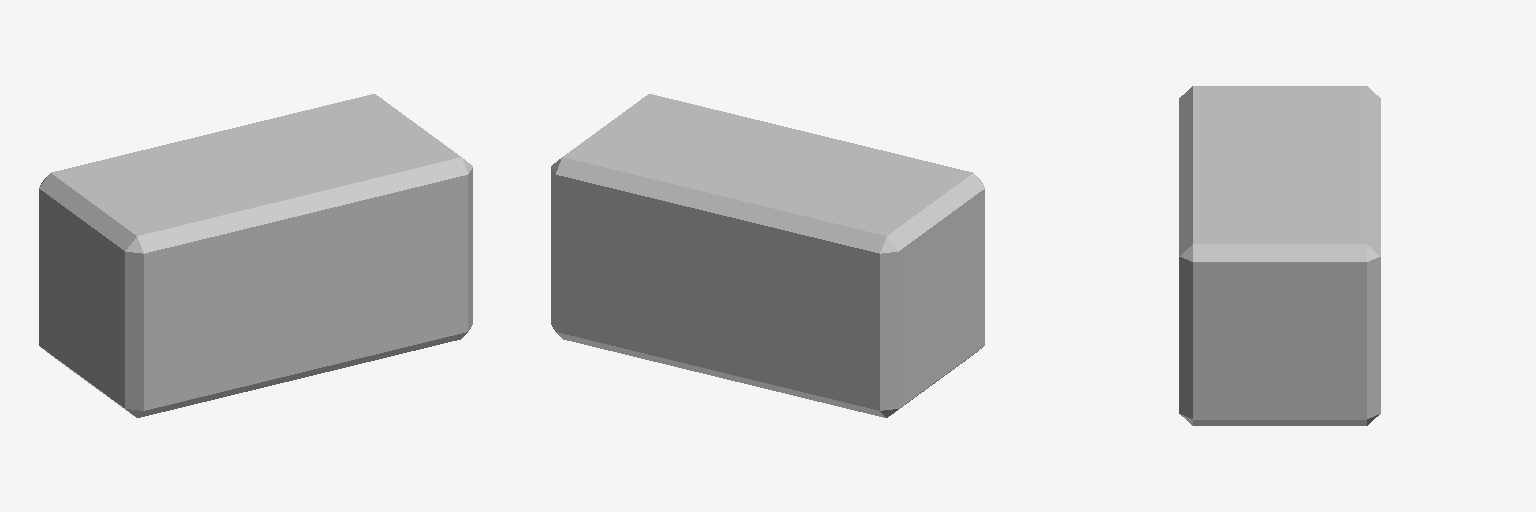
Rendered from gun_ammo.obj.
The picture shows the model from 3 angles: view 1: azimuth 30°, elevation 25°; view 2: azimuth 150°, elevation 25°; view 3: azimuth 270°, elevation 25°; orthographic projection.
Parts seen in each view (by area): view 1: Gun_ammo_Cube; view 2: Gun_ammo_Cube; view 3: Gun_ammo_Cube.
Part boxes in pixels (x1,y1,x2,y2): Gun_ammo_Cube: (39, 94, 472, 417); Gun_ammo_Cube: (551, 94, 984, 417); Gun_ammo_Cube: (1179, 86, 1380, 425).
Bounding box in the file's own units: 4 × 2 × 2.